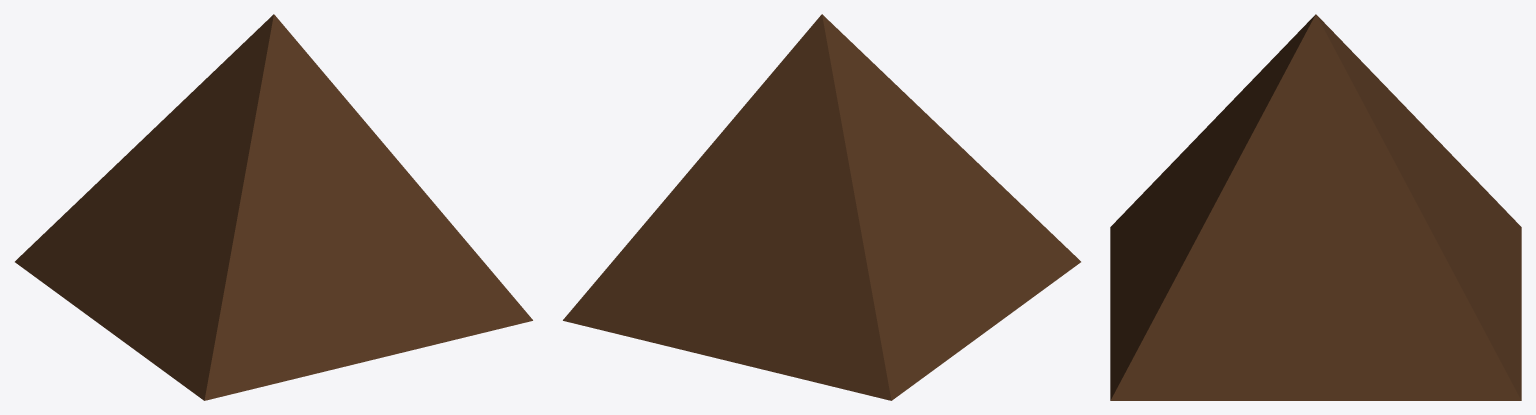
The model's file is piramida.glb.
3 views of the same model, side by side, from view 1: azimuth 30°, elevation 25°; view 2: azimuth 150°, elevation 25°; view 3: azimuth 270°, elevation 25° (orthographic). The views are drawn at different scales.
Visible parts, largest first — view 1: Plane; view 2: Plane; view 3: Plane.
Part boxes in pixels (left/top/right/bottom): Plane: left=15, top=14, right=532, bottom=400; Plane: left=563, top=14, right=1080, bottom=400; Plane: left=1110, top=14, right=1521, bottom=400.
Bounding box in the file's own units: 3 × 2.42 × 3.
